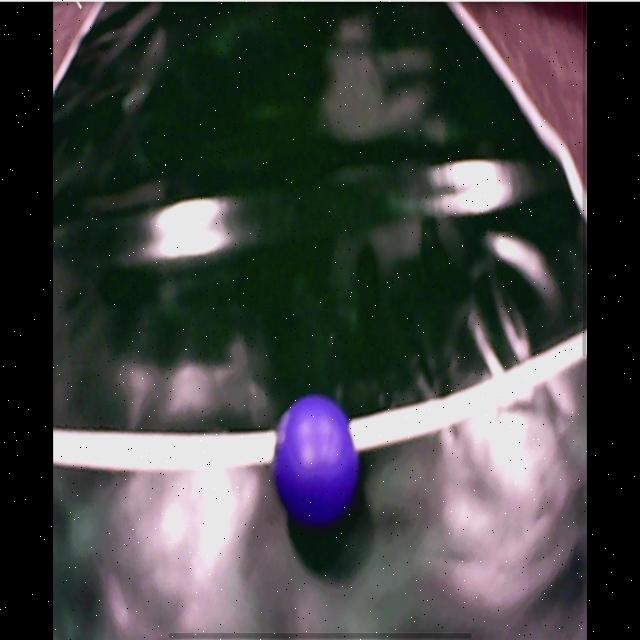ball: (275, 396, 359, 521)
